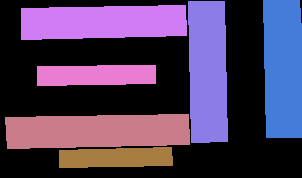parkingspot: (5, 114, 189, 148), (21, 5, 186, 39), (188, 1, 227, 142), (263, 0, 302, 137), (37, 65, 155, 85), (59, 147, 172, 167)
